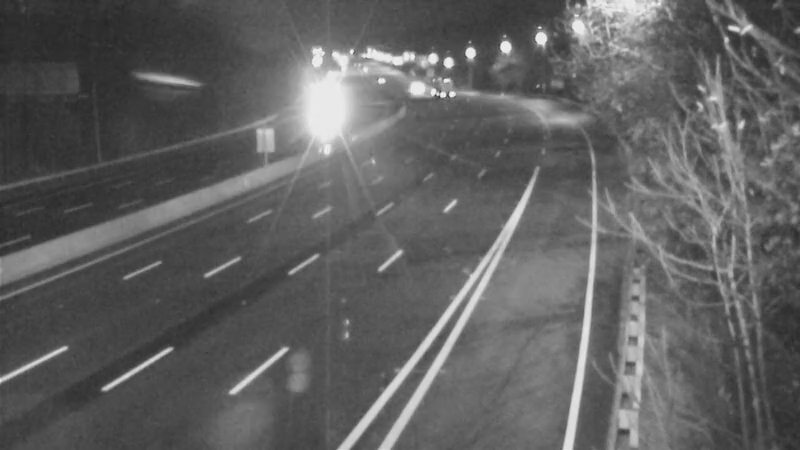vehicle: (357, 56, 407, 106), (386, 62, 436, 112), (411, 59, 461, 109), (300, 87, 350, 137)
